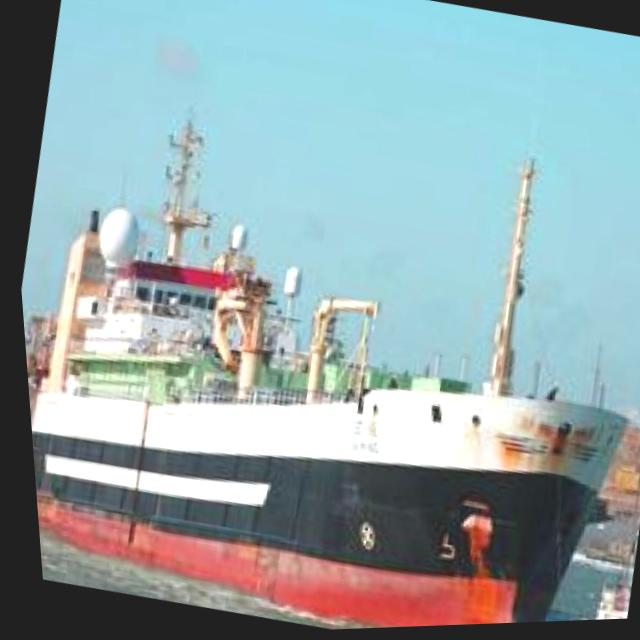ship2: (20, 122, 623, 631)
